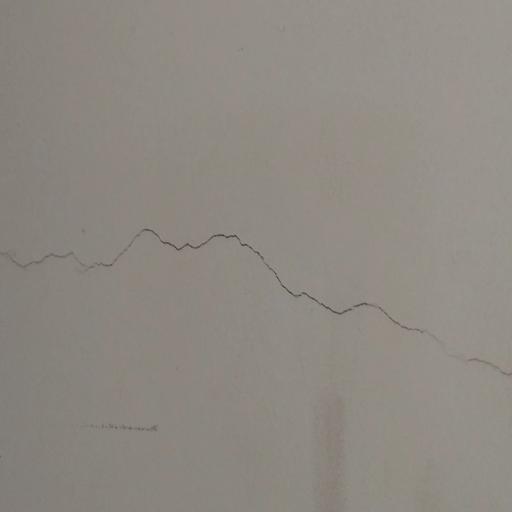minor_crack: (0, 204, 512, 392)
